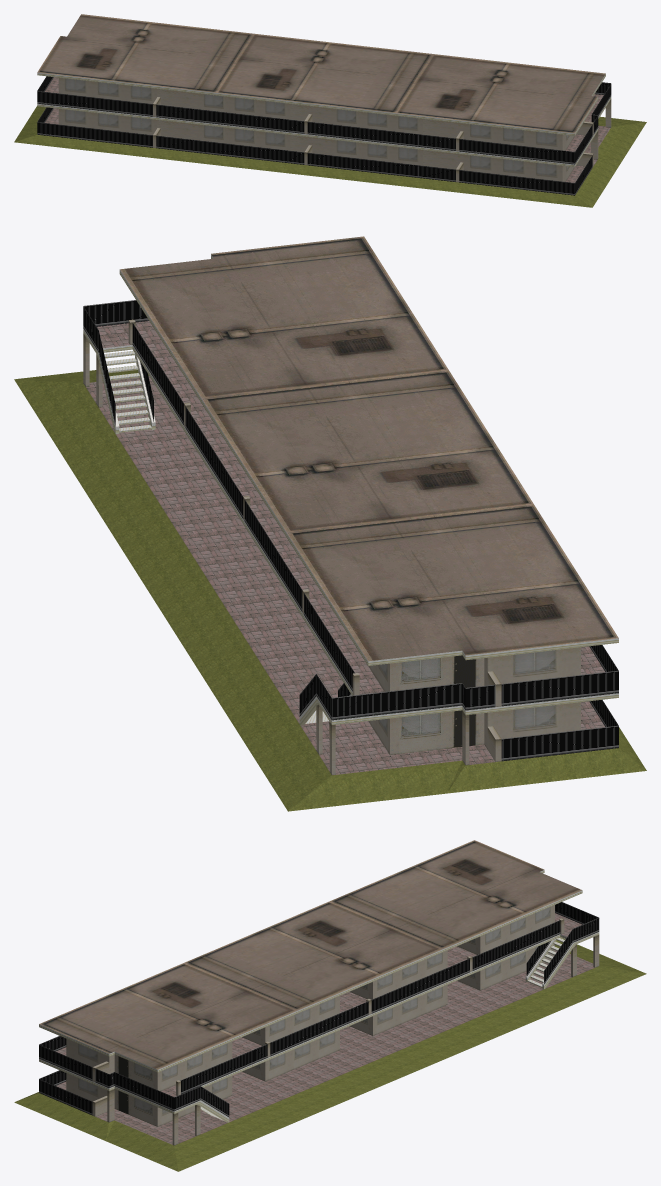
Rendered from newaprtmntsvgn07.obj.
3 renders of one model, top to bottom at view 1: azimuth 30°, elevation 25°; view 2: azimuth 150°, elevation 25°; view 3: azimuth 270°, elevation 25°, orthographic. The views are drawn at different scales.
Visible parts, largest first — view 1: newaprtmntsvgN07; view 2: newaprtmntsvgN07; view 3: newaprtmntsvgN07.
Boxes of the visible parts, left/top/right/bottom form: newaprtmntsvgN07: left=14, top=14, right=646, bottom=207; newaprtmntsvgN07: left=14, top=236, right=646, bottom=811; newaprtmntsvgN07: left=14, top=840, right=646, bottom=1171.
Bounding box in the file's own units: 48.84 × 6.37 × 48.84.
Materials: 7 (7 with a texture image).
